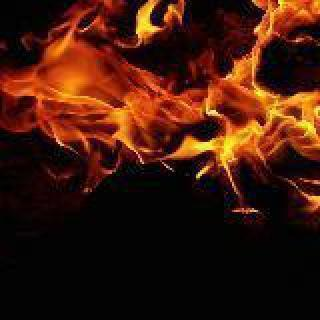fire: (2, 0, 320, 204)
